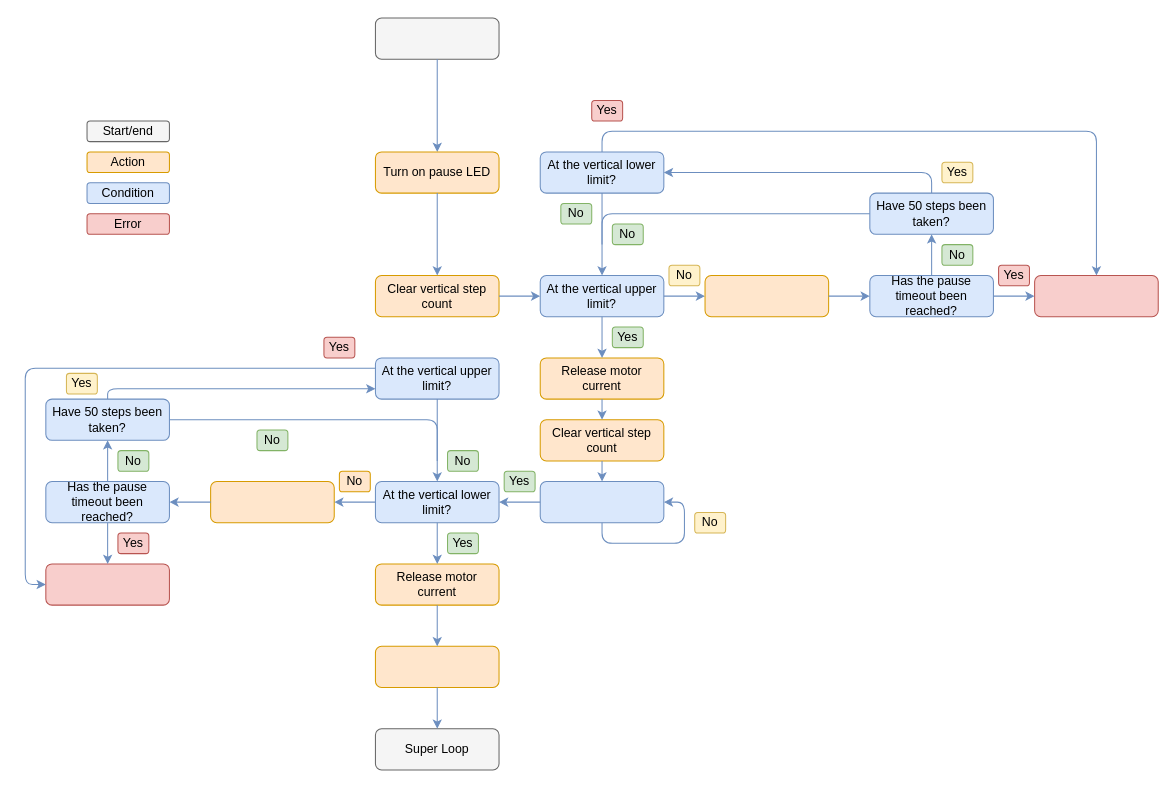
This 1176x788 diagram has some shape labels left out. The centre of each missing label's shape, as x and y in pixels:
Display vertical home error code: (107,584)
Display vertical pickup error code: (1096,295)
Move vertical stepper one step clockwise: (766,295)
Move vertical stepper one step counterclockwise: (272,501)
Super Loop Calls Pause Routine: (436,38)
Turn off pause LED: (436,666)
Was the pause button pressed again?: (601,501)
